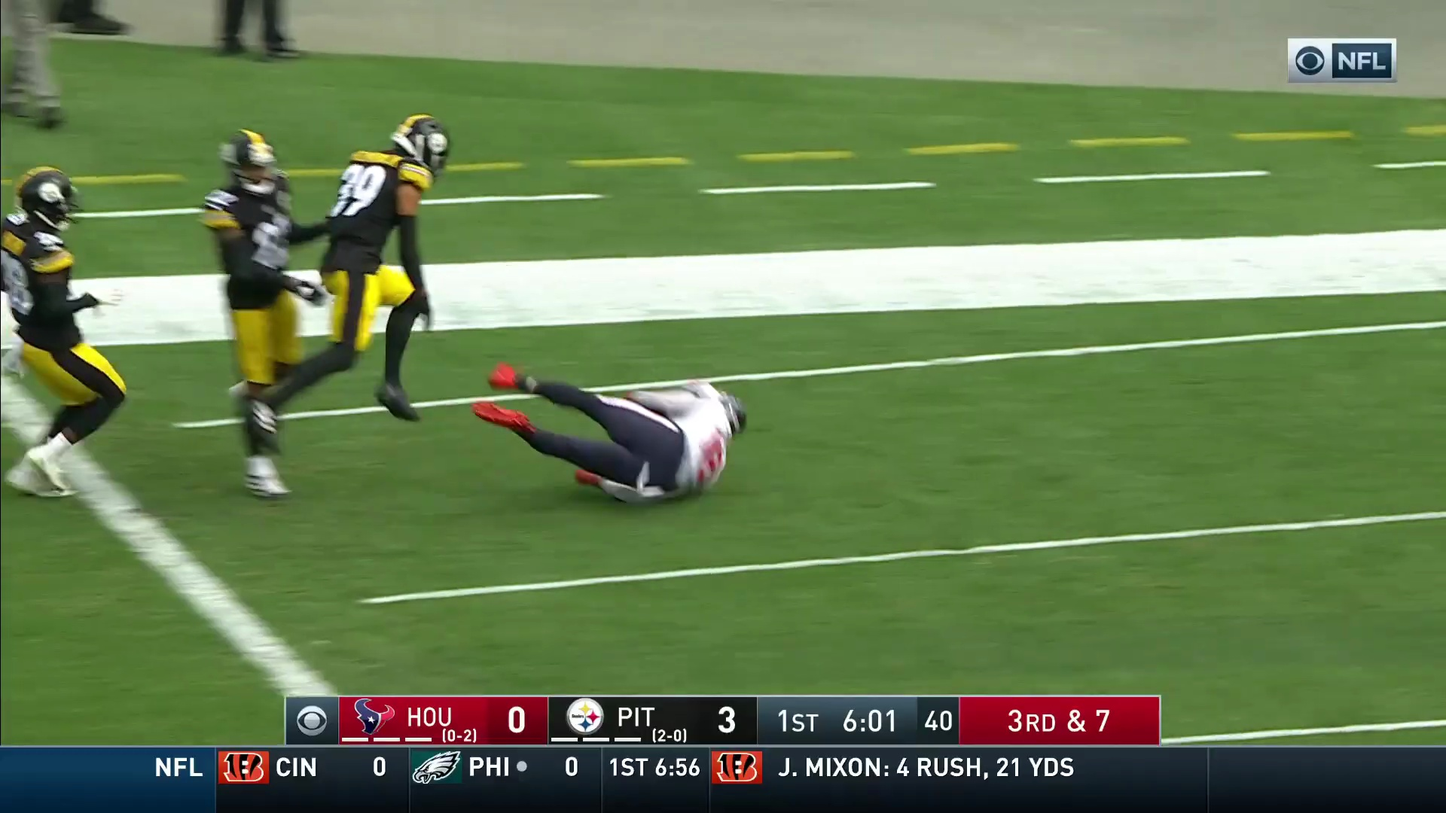Player: (322, 121, 436, 349), (2, 7, 63, 128), (0, 242, 24, 375)
